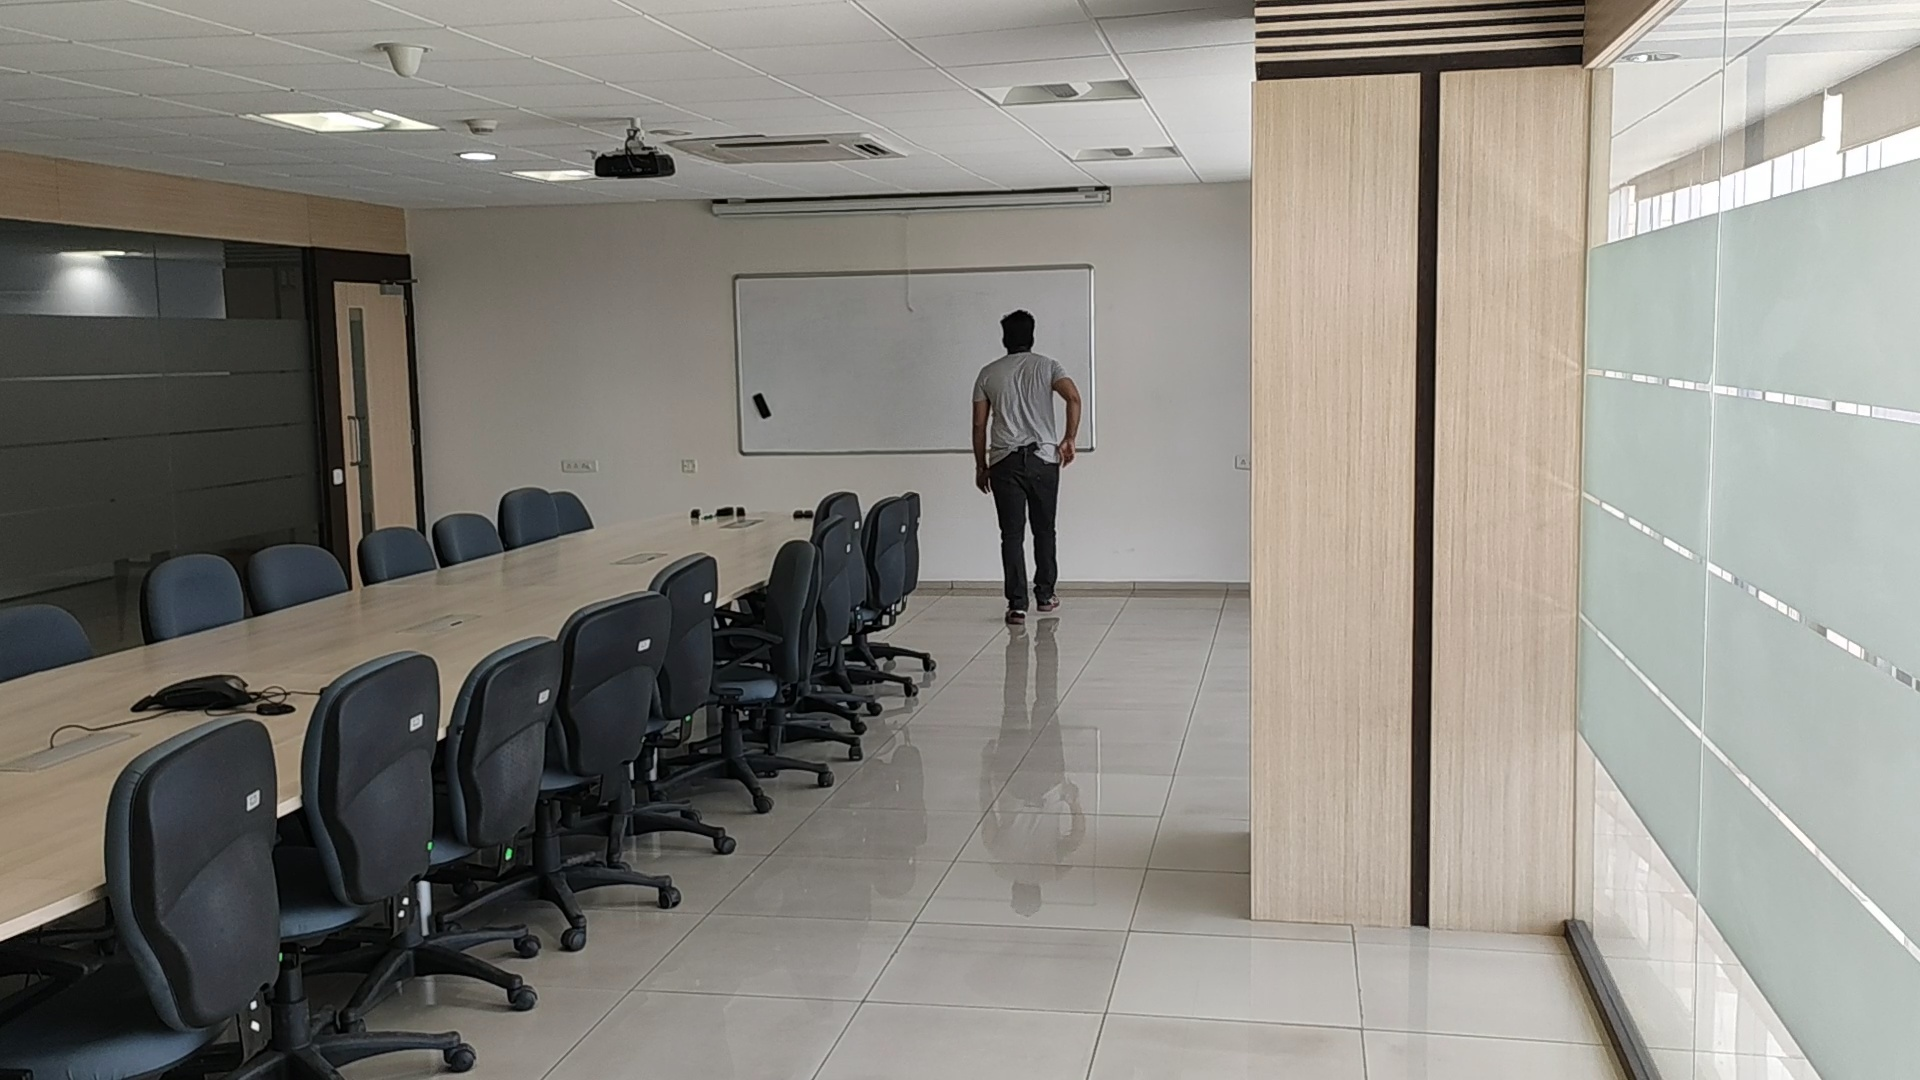gun: (1018, 442, 1040, 452)
